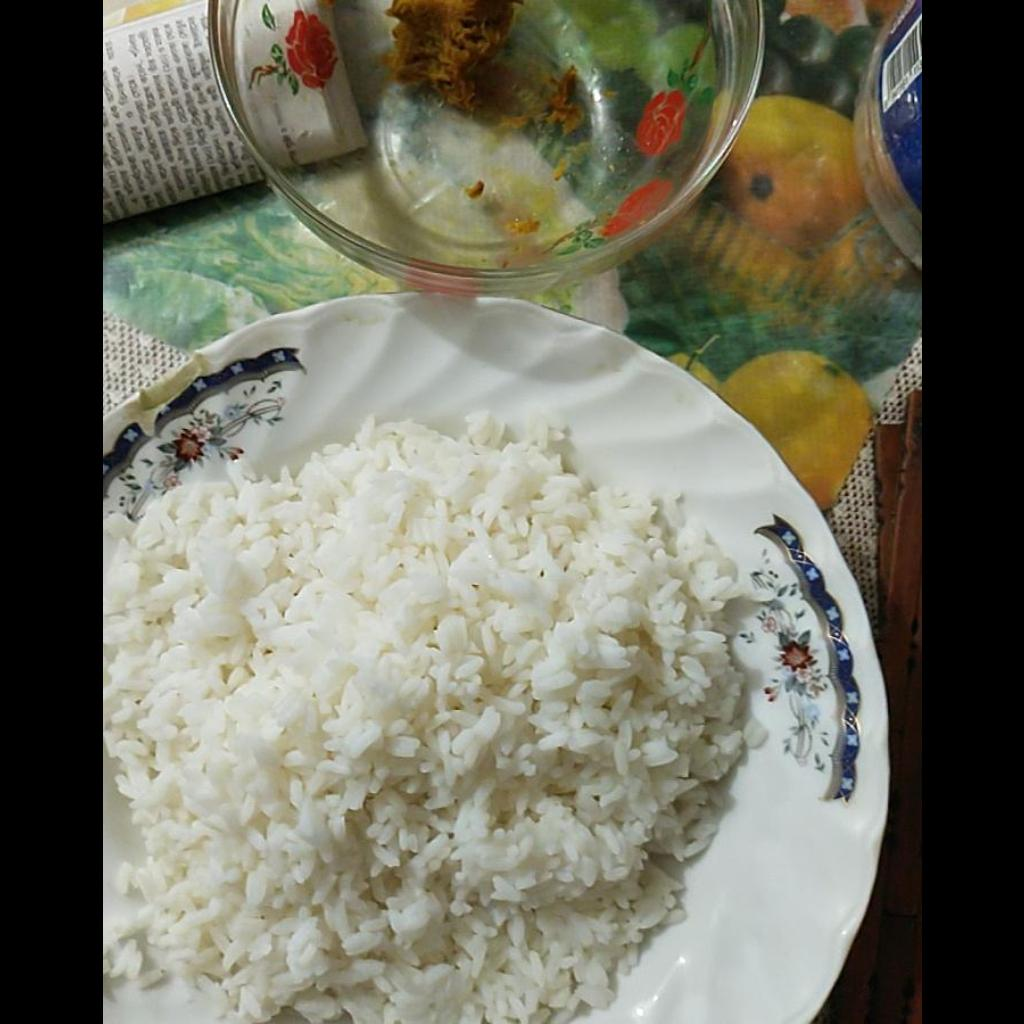rice: (103, 409, 748, 1023)
vorta: (378, 0, 519, 117)
